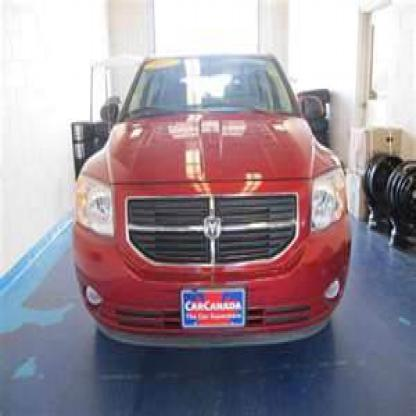Vehicle: (71, 44, 356, 359)
